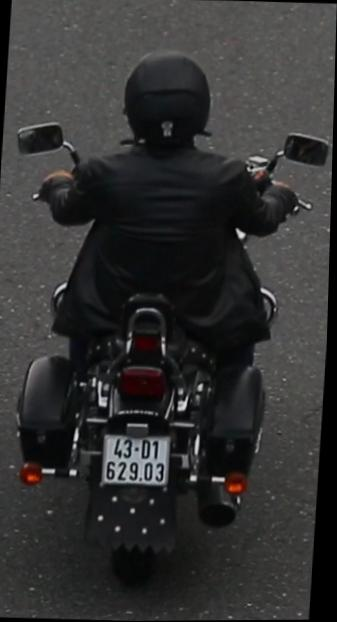LP: (98, 429, 176, 493)
helmet: (114, 44, 220, 164)
